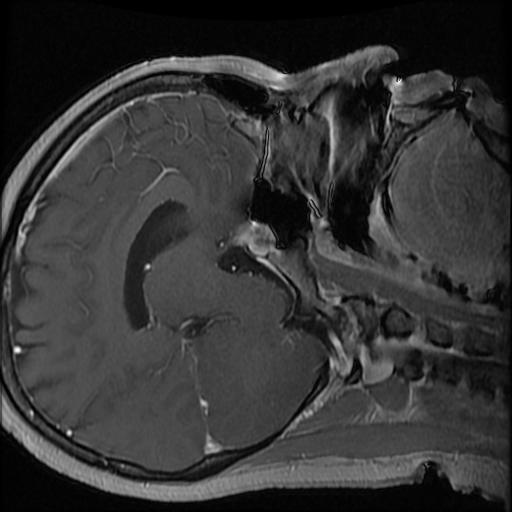pituitary tumour: (233, 221, 276, 256)
